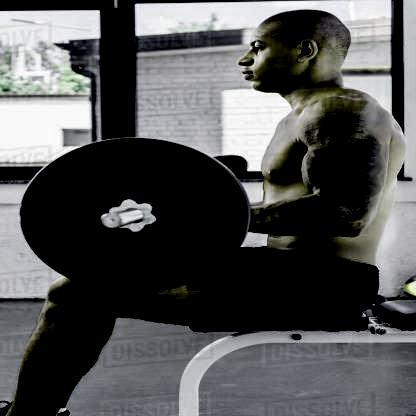Barbell: (98, 211, 128, 232)
